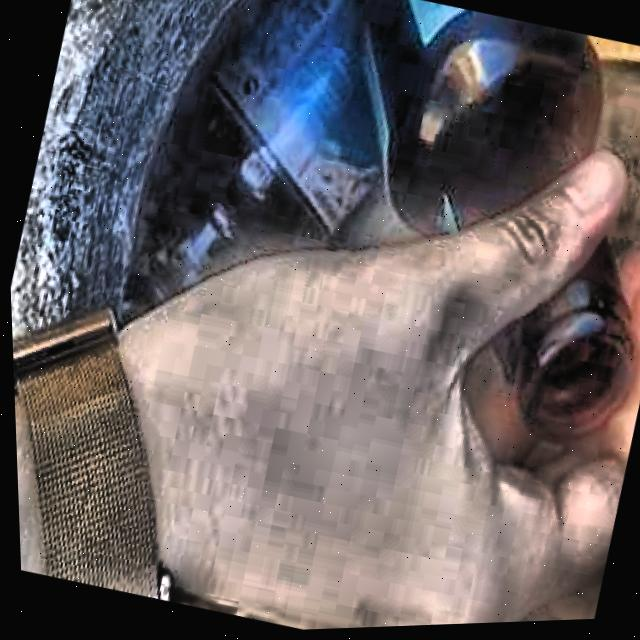glass: (357, 0, 600, 237), (492, 247, 635, 448)
